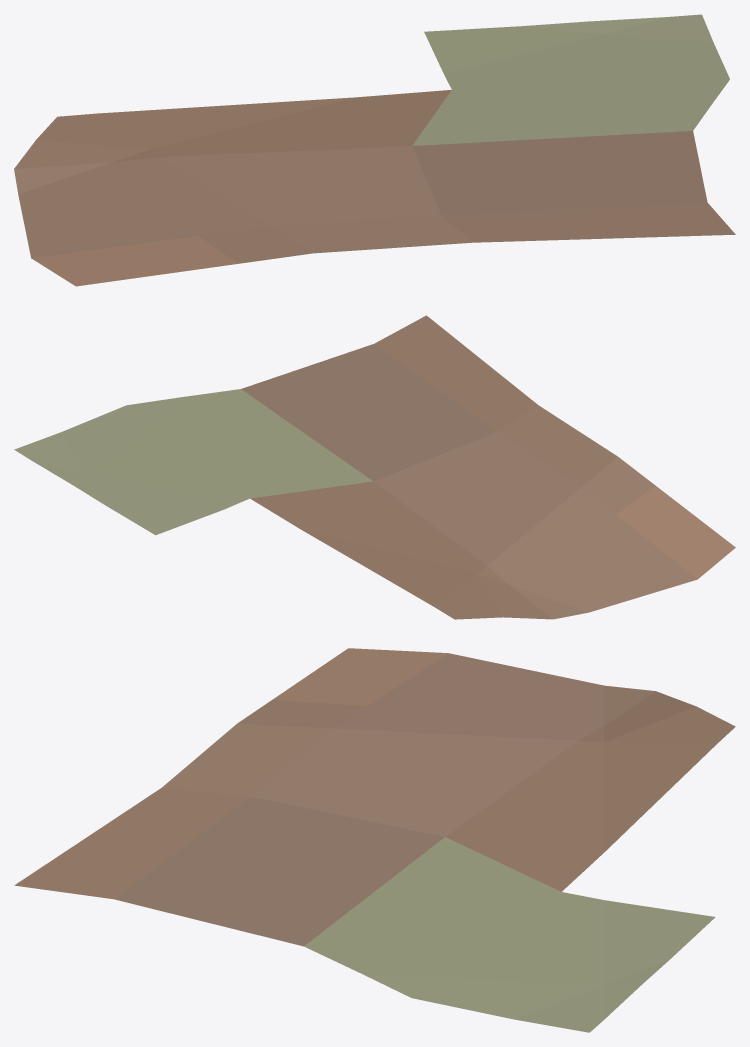
Rendered from farm_-54_-52_soil.glb.
The picture shows the model from 3 angles, top to bottom: view 1: azimuth 30°, elevation 25°; view 2: azimuth 150°, elevation 25°; view 3: azimuth 270°, elevation 25°; orthographic projection. The views are drawn at different scales.
Parts seen in each view (by area): view 1: geometry_0; view 2: geometry_0; view 3: geometry_0.
Part boxes in pixels (x1,y1,x2,y2): geometry_0: (14,14,735,286); geometry_0: (14,315,735,619); geometry_0: (14,648,735,1032).
Bounding box in the file's own units: 129 × 7.13 × 98.31.
